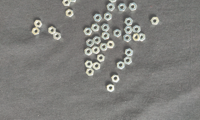nut: (125, 17, 134, 26), (118, 3, 127, 12), (151, 17, 160, 25), (129, 3, 138, 11), (133, 25, 141, 34), (133, 33, 141, 42), (117, 61, 125, 70), (124, 34, 132, 43), (114, 29, 122, 38), (107, 84, 115, 93), (97, 54, 105, 63), (92, 23, 100, 32), (93, 36, 101, 45), (84, 28, 93, 36), (86, 39, 95, 47), (86, 68, 94, 77), (53, 32, 62, 40), (34, 20, 43, 28), (125, 49, 133, 57), (124, 57, 132, 65), (125, 26, 133, 34), (112, 75, 120, 83), (107, 41, 115, 49), (107, 3, 115, 11), (102, 24, 110, 32), (102, 32, 110, 40), (100, 43, 108, 51), (94, 14, 102, 22), (92, 46, 100, 54), (93, 62, 101, 70), (85, 48, 93, 56), (85, 61, 93, 69), (66, 9, 74, 17), (32, 28, 40, 36), (105, 12, 112, 21), (49, 26, 56, 35), (140, 33, 146, 42), (63, 0, 71, 6), (109, 0, 117, 3), (69, 1, 78, 2)
